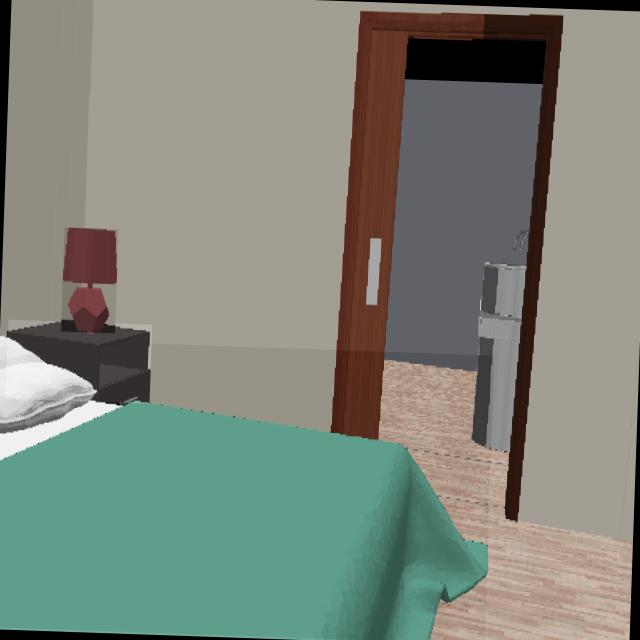bed: (0, 339, 487, 640)
lamp: (63, 228, 116, 332)
nighttable: (7, 321, 149, 402)
